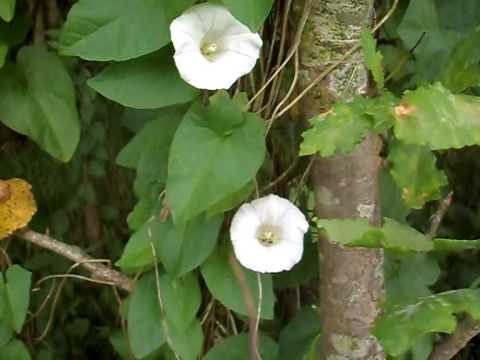haagwinde: (161, 94, 273, 215), (218, 186, 325, 284), (164, 1, 266, 87)
